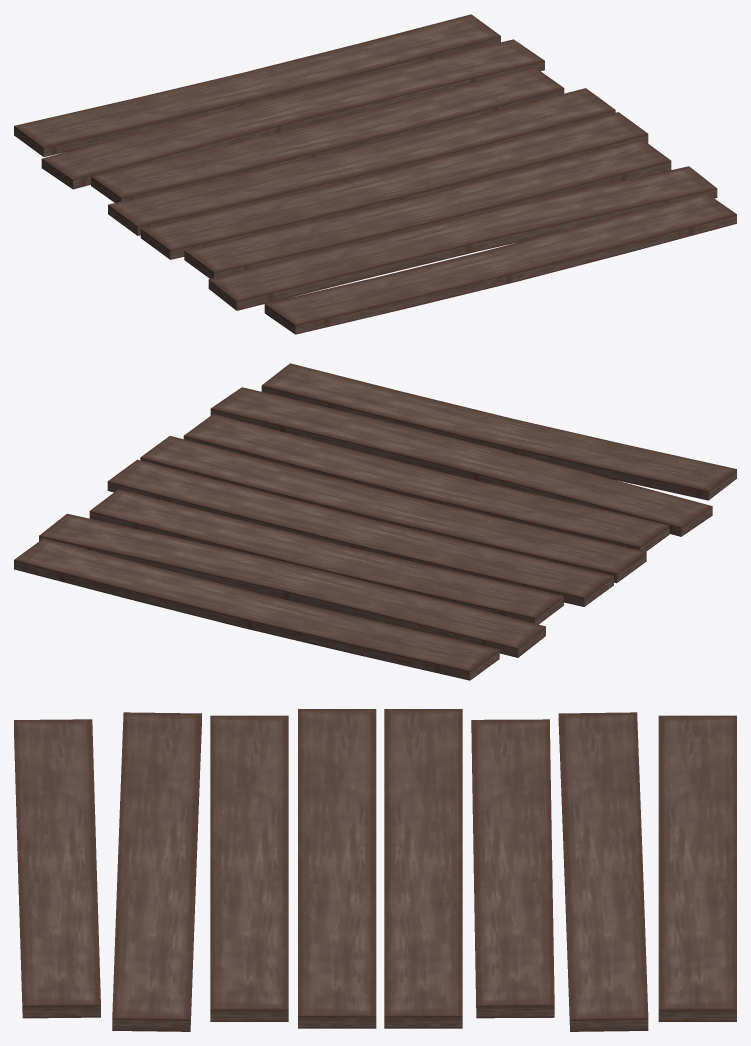
File: Coast Planks Square.fbx
3 renders of one model, top to bottom at view 1: azimuth 30°, elevation 25°; view 2: azimuth 150°, elevation 25°; view 3: azimuth 270°, elevation 25°, orthographic. The views are drawn at different scales.
Visible parts, largest first — view 1: Plank Square; view 2: Plank Square; view 3: Plank Square.
Boxes of the visible parts, box(x1,y1,x2,y2) form: Plank Square: box(14, 14, 736, 334); Plank Square: box(14, 363, 736, 680); Plank Square: box(14, 709, 736, 1031).
Bounding box in the file's own units: 1855 × 46.1 × 1846.
